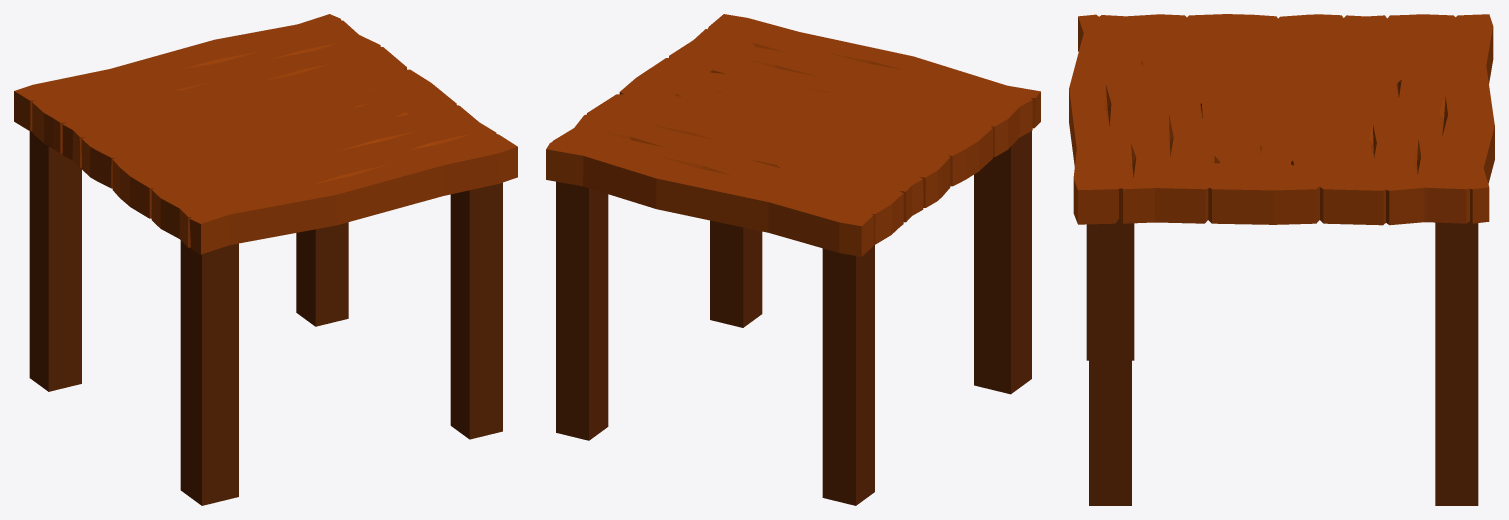
Rendered from table.fbx.
The picture shows the model from 3 angles, left to right: view 1: azimuth 30°, elevation 25°; view 2: azimuth 150°, elevation 25°; view 3: azimuth 270°, elevation 25°; orthographic projection. The views are drawn at different scales.
Parts seen in each view (by area): view 1: Cube, Cube.004, Cube.002, Cube.003, Cube.001; view 2: Cube, Cube.004, Cube.001, Cube.003, Cube.002; view 3: Cube, Cube.001, Cube.002, Cube.004.
Part boxes in pixels (bbox=[...]): Cube: bbox=[14, 14, 517, 254]; Cube.004: bbox=[180, 240, 238, 505]; Cube.002: bbox=[450, 182, 502, 439]; Cube.003: bbox=[29, 131, 81, 391]; Cube.001: bbox=[296, 222, 348, 326]; Cube: bbox=[546, 14, 1040, 256]; Cube.004: bbox=[974, 131, 1031, 394]; Cube.001: bbox=[556, 181, 608, 440]; Cube.003: bbox=[822, 244, 874, 505]; Cube.002: bbox=[710, 220, 762, 327]; Cube: bbox=[1069, 14, 1494, 225]; Cube.001: bbox=[1435, 221, 1478, 505]; Cube.002: bbox=[1089, 219, 1131, 505]; Cube.004: bbox=[1086, 223, 1134, 360].
Size of the model in its own units: 386 by 328 by 393.
